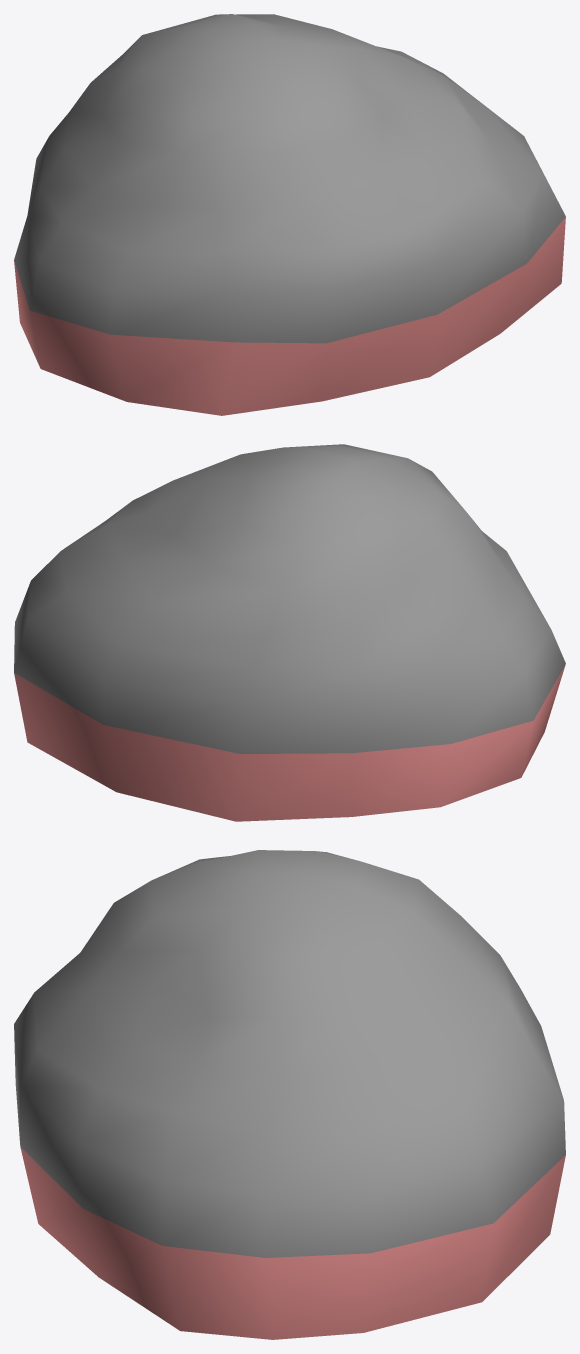
The model's file is innastone03.gltf.
3 renders of one model, top to bottom at view 1: azimuth 30°, elevation 25°; view 2: azimuth 150°, elevation 25°; view 3: azimuth 270°, elevation 25°, orthographic. The views are drawn at different scales.
Visible parts, largest first — view 1: innastone03; view 2: innastone03; view 3: innastone03.
Boxes of the visible parts, x1,y1,x2,y2 form: innastone03: (14, 14, 565, 415); innastone03: (14, 444, 565, 821); innastone03: (14, 850, 565, 1339).
Bounding box in the file's own units: 3.31 × 1.75 × 2.76.
